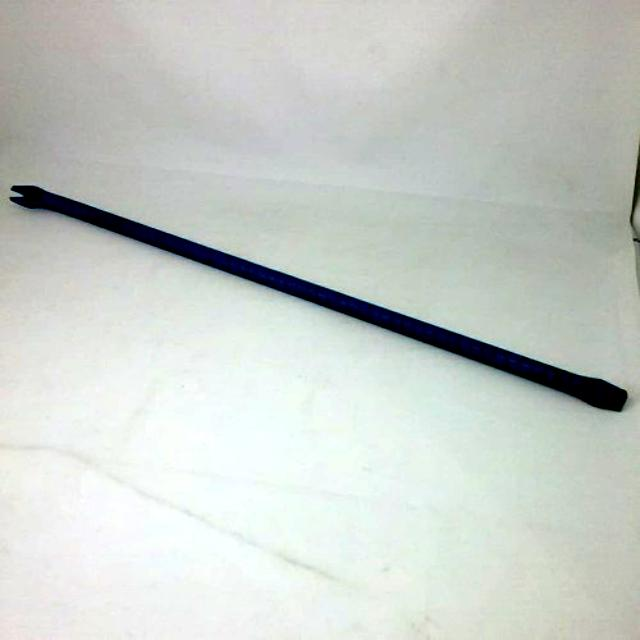crow bar: (9, 175, 633, 420)
